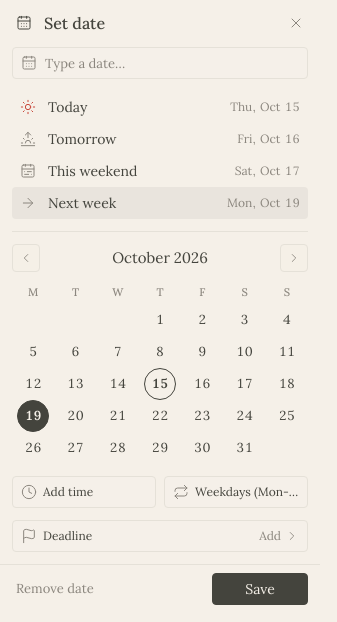
Test: TaskDatePickerPanel › repeat screen › reads an existing weekdays rule back as its preset
Click the button with aria-label "Repeat" at x=236, y=492, box left=164, top=476, right=308, bottom=508
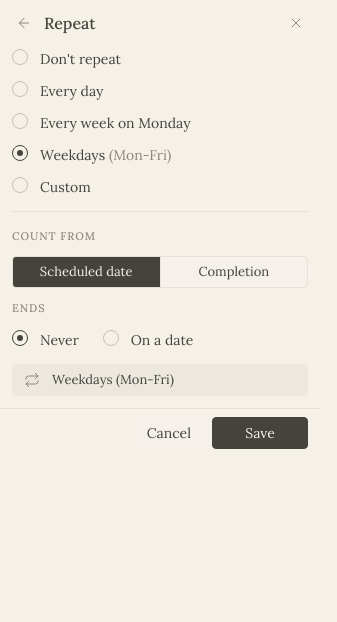
Now the radio button labelled "Weekdays (Mon-Fri)" is shown, box left=12, top=145, right=171, bottom=164
